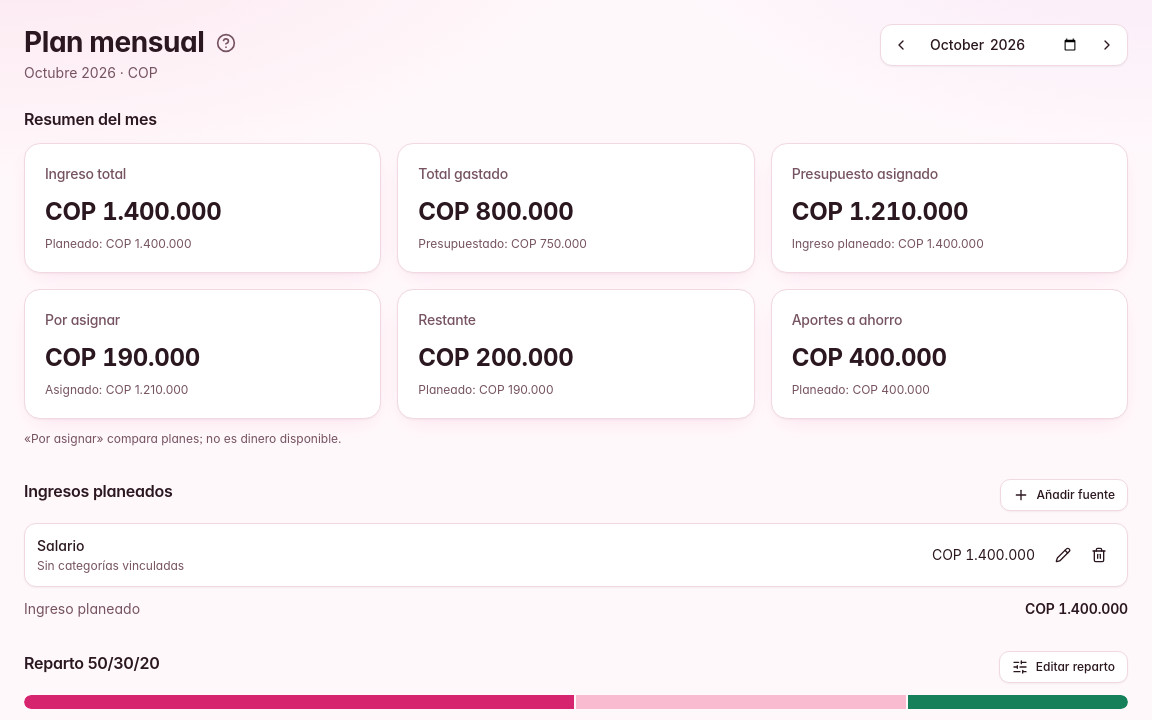
Test: Plan › ingresos planeados › no ofrece categorías de gasto, archivadas ni de otra fuente del mes
Click the button "Añadir fuente": (1064, 495) [1000,479,1128,511]
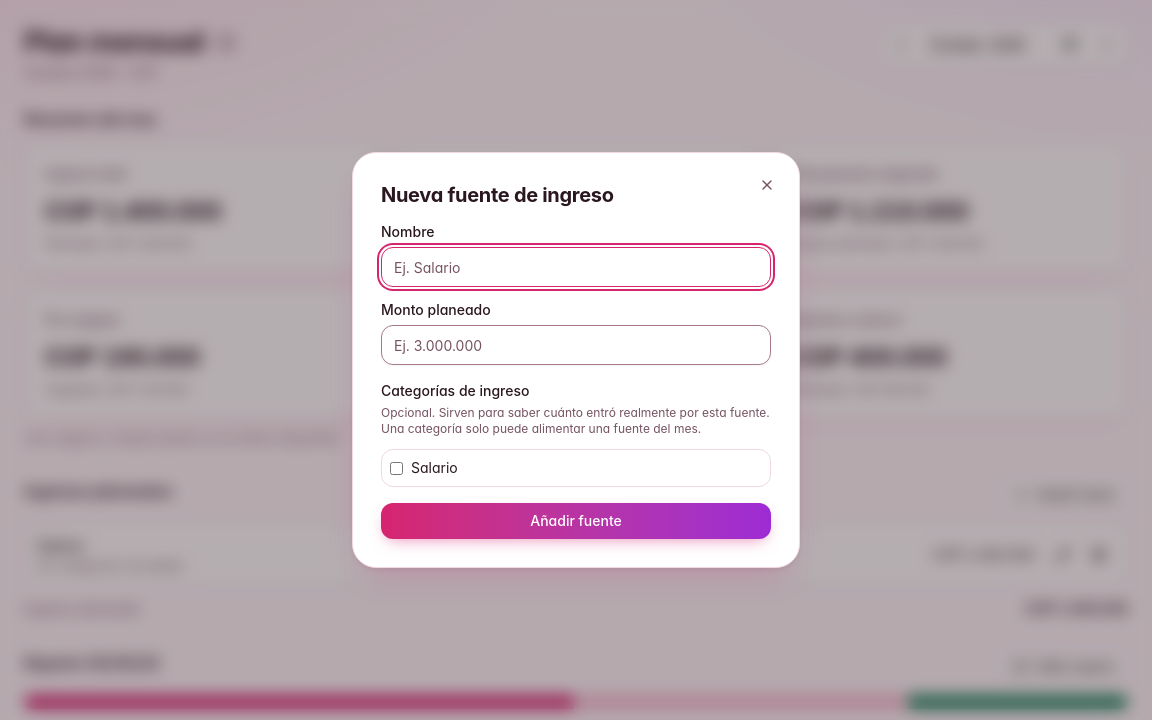
Expected: the checkbox labelled "Salario" is shown, [390,462,403,474]
